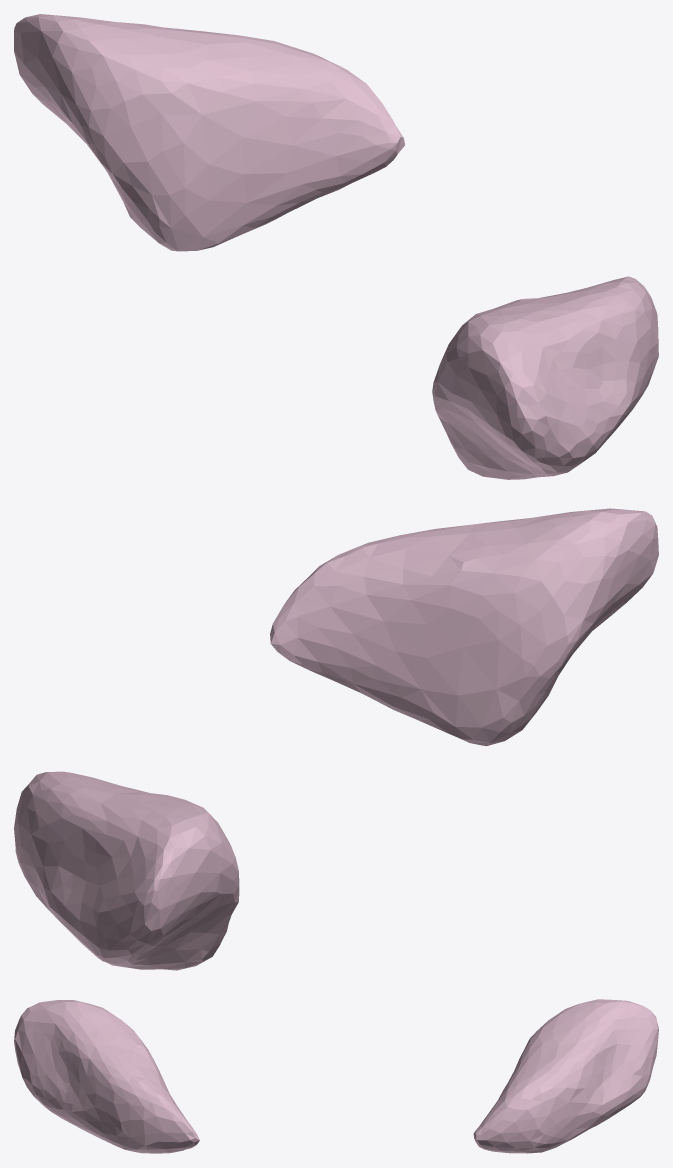
3 views of the same model, one above another, from view 1: azimuth 30°, elevation 25°; view 2: azimuth 150°, elevation 25°; view 3: azimuth 270°, elevation 25° (orthographic). The views are drawn at different scales.
Parts seen in each view (by area): view 1: 225.obj; view 2: 225.obj; view 3: 225.obj.
Part boxes in pixels (x1,y1,x2,y2): 225.obj: [14, 14, 658, 479]; 225.obj: [14, 508, 658, 970]; 225.obj: [14, 999, 658, 1153].
Bounding box in the file's own units: 1149 × 816 × 3872.
